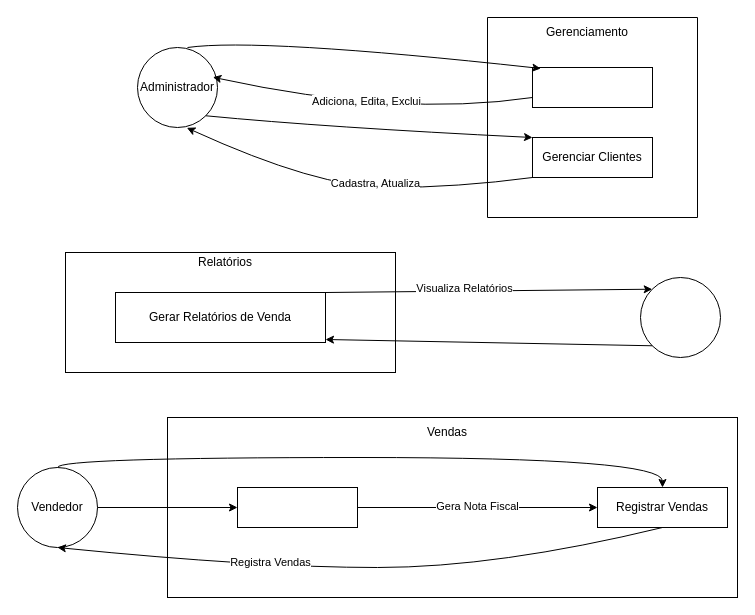
This 755x615 diagram has some shape labels left out. Here are the shapes that lost their labels. From the top down, the centre of each, then its label:
point 592,87: Gerenciar Produtos
point 680,317: Gestor
point 297,507: Emitir Nota Fiscal
